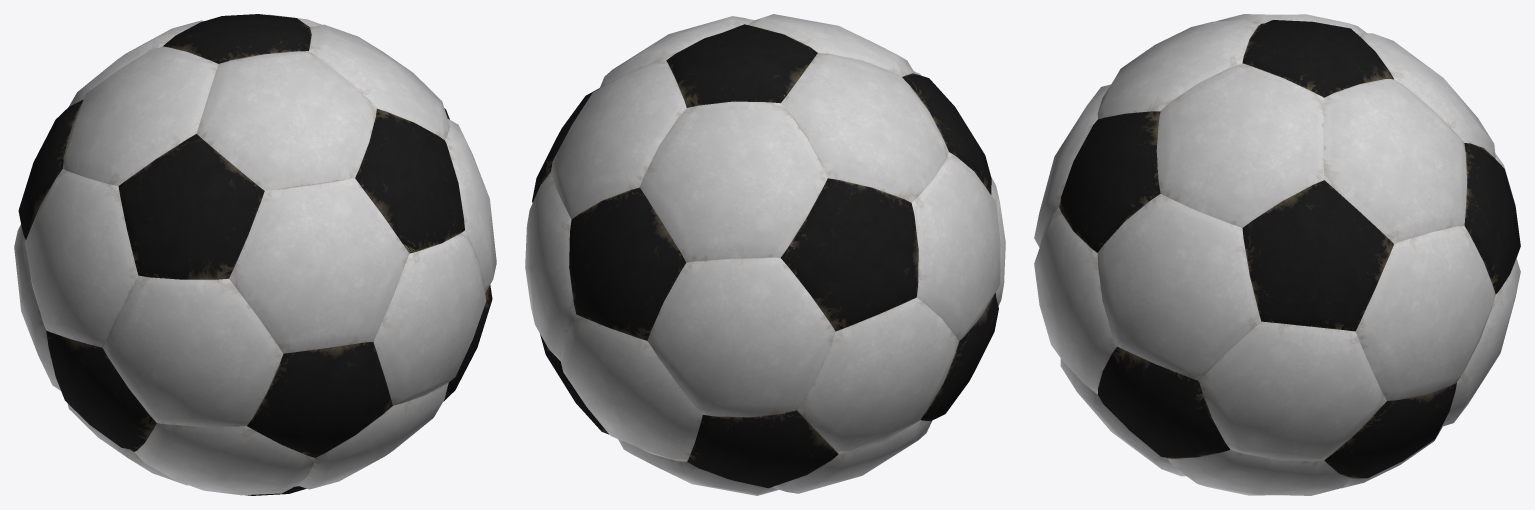
The model's file is soccer_ball.obj.
The picture shows the model from 3 angles, left to right: view 1: azimuth 30°, elevation 25°; view 2: azimuth 150°, elevation 25°; view 3: azimuth 270°, elevation 25°; orthographic projection.
Parts seen in each view (by area): view 1: soccer__ball; view 2: soccer__ball; view 3: soccer__ball.
Part boxes in pixels (x1,y1,x2,y2): soccer__ball: [14, 14, 496, 495]; soccer__ball: [525, 14, 1005, 495]; soccer__ball: [1034, 14, 1520, 495].
Bounding box in the file's own units: 13.69 × 13.78 × 13.77.
